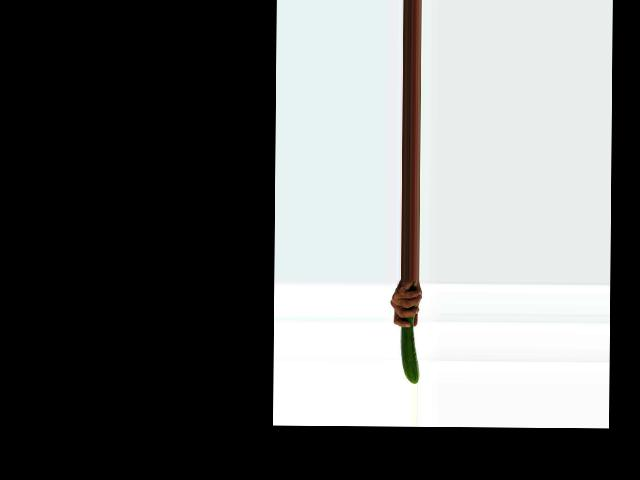cucumber: (400, 282, 420, 384)
